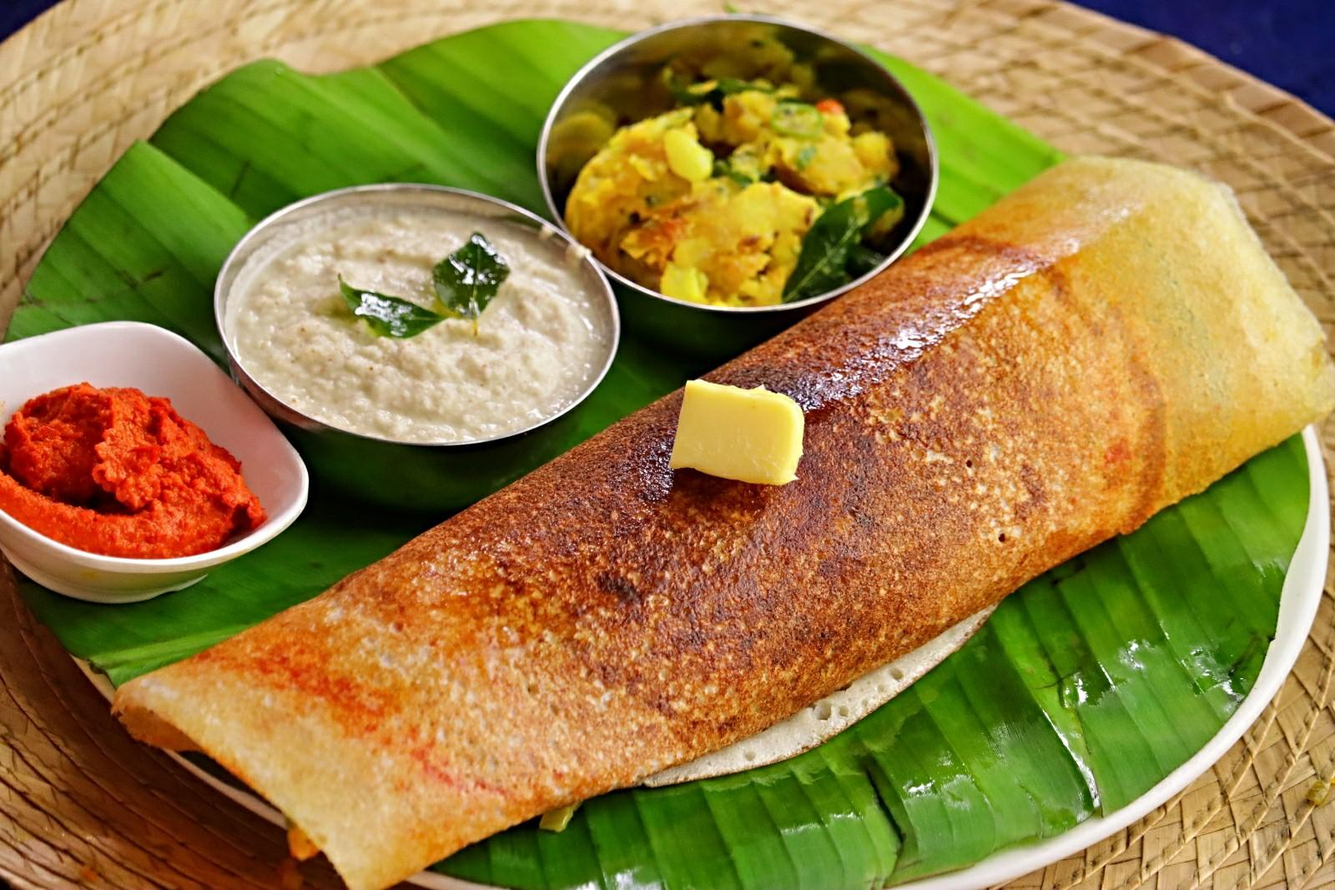CoconutChutney: (231, 205, 608, 444)
Dosa: (115, 157, 1335, 890)
